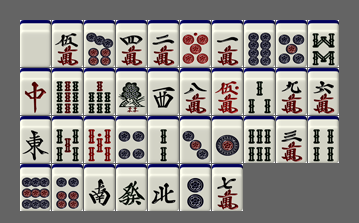0m: (212, 68, 243, 115)
0p: (180, 20, 211, 67)
0s: (84, 116, 115, 163)
1m: (212, 20, 243, 67)
1p: (212, 116, 243, 163)
1s: (116, 68, 147, 115)
1z: (20, 116, 51, 163)
2m: (148, 20, 179, 67)
2p: (180, 164, 211, 211)
2s: (148, 116, 179, 163)
2z: (84, 164, 115, 211)
3m: (276, 116, 307, 163)
3p: (180, 116, 211, 163)
3s: (244, 68, 275, 115)
3z: (148, 68, 179, 115)
4m: (116, 20, 147, 67)
4p: (116, 116, 147, 163)
4s: (308, 116, 339, 163)
4z: (148, 164, 179, 211)
5m: (52, 20, 83, 67)
5p: (276, 20, 307, 67)
5s: (52, 116, 83, 163)
5z: (20, 20, 51, 67)
6m: (308, 68, 339, 115)
6p: (52, 164, 83, 211)
6s: (244, 116, 275, 163)
6z: (116, 164, 147, 211)
7m: (212, 164, 243, 211)
7p: (84, 20, 115, 67)
7s: (84, 68, 115, 115)
7z: (20, 68, 51, 115)
8m: (180, 68, 211, 115)
8p: (244, 20, 275, 67)
8s: (308, 20, 339, 67)
9m: (276, 68, 307, 115)
9p: (20, 164, 51, 211)
9s: (52, 68, 83, 115)
